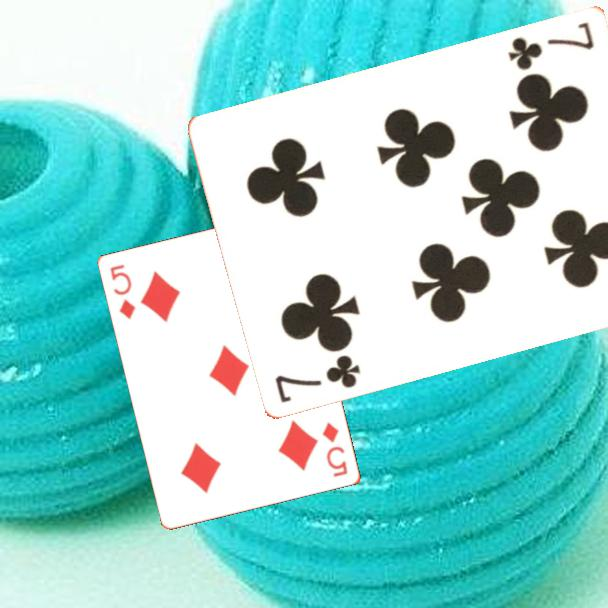c07: (505, 18, 597, 73), (272, 350, 364, 405)
d05: (319, 419, 351, 480), (107, 261, 138, 322)
